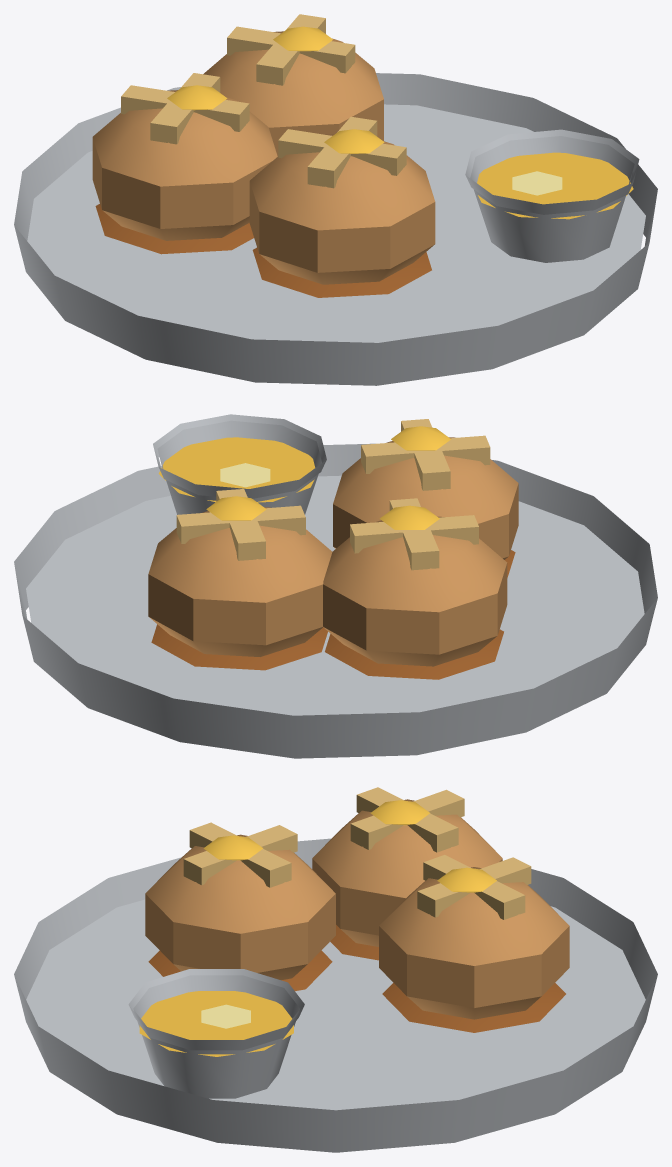
The model's file is pass_baati.glb.
3 renders of one model, top to bottom at view 1: azimuth 30°, elevation 25°; view 2: azimuth 150°, elevation 25°; view 3: azimuth 270°, elevation 25°, orthographic.
Parts seen in each view (by area): view 1: pass_baati; view 2: pass_baati; view 3: pass_baati.
Boxes of the visible parts, x1=… form: pass_baati: x1=14, y1=14, x2=657, y2=385; pass_baati: x1=14, y1=414, x2=657, y2=758; pass_baati: x1=14, y1=787, x2=657, y2=1152.
Size of the model in its own units: 0.27 by 0.0787 by 0.27.
1 material, 1 textured.
